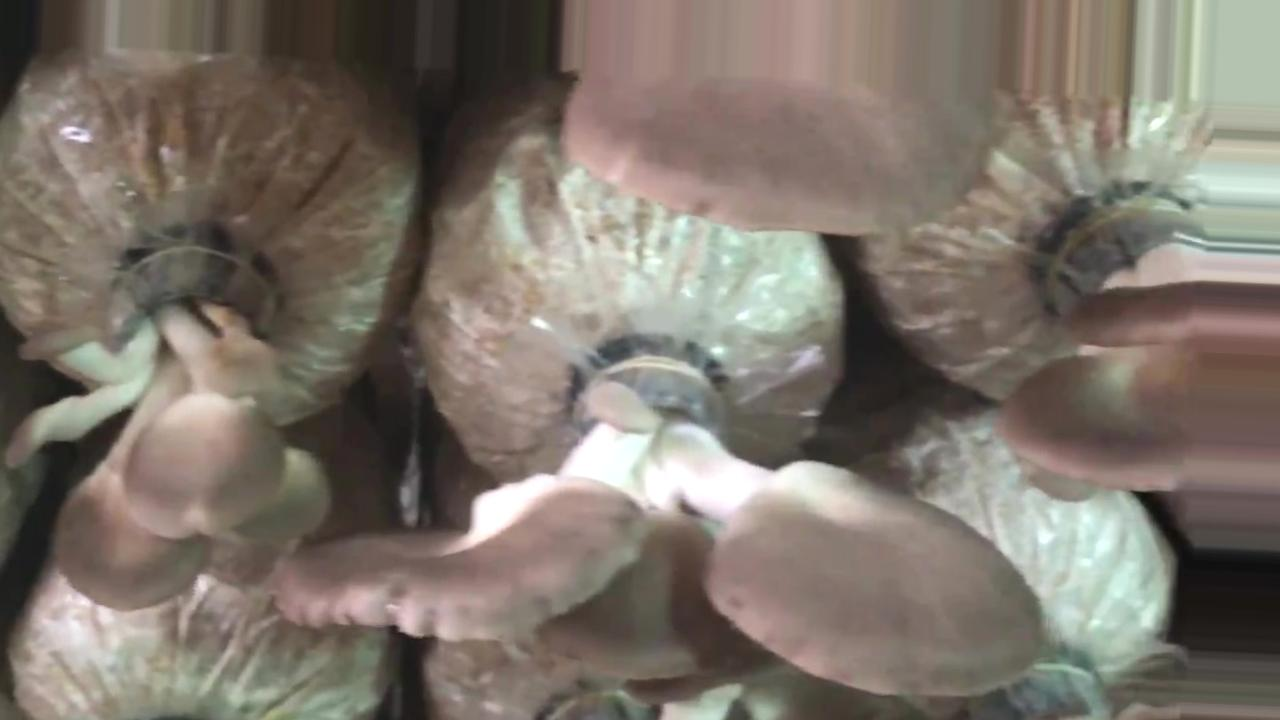nam: (270, 337, 1048, 702), (21, 239, 335, 618), (999, 168, 1280, 491), (560, 89, 1002, 238)
